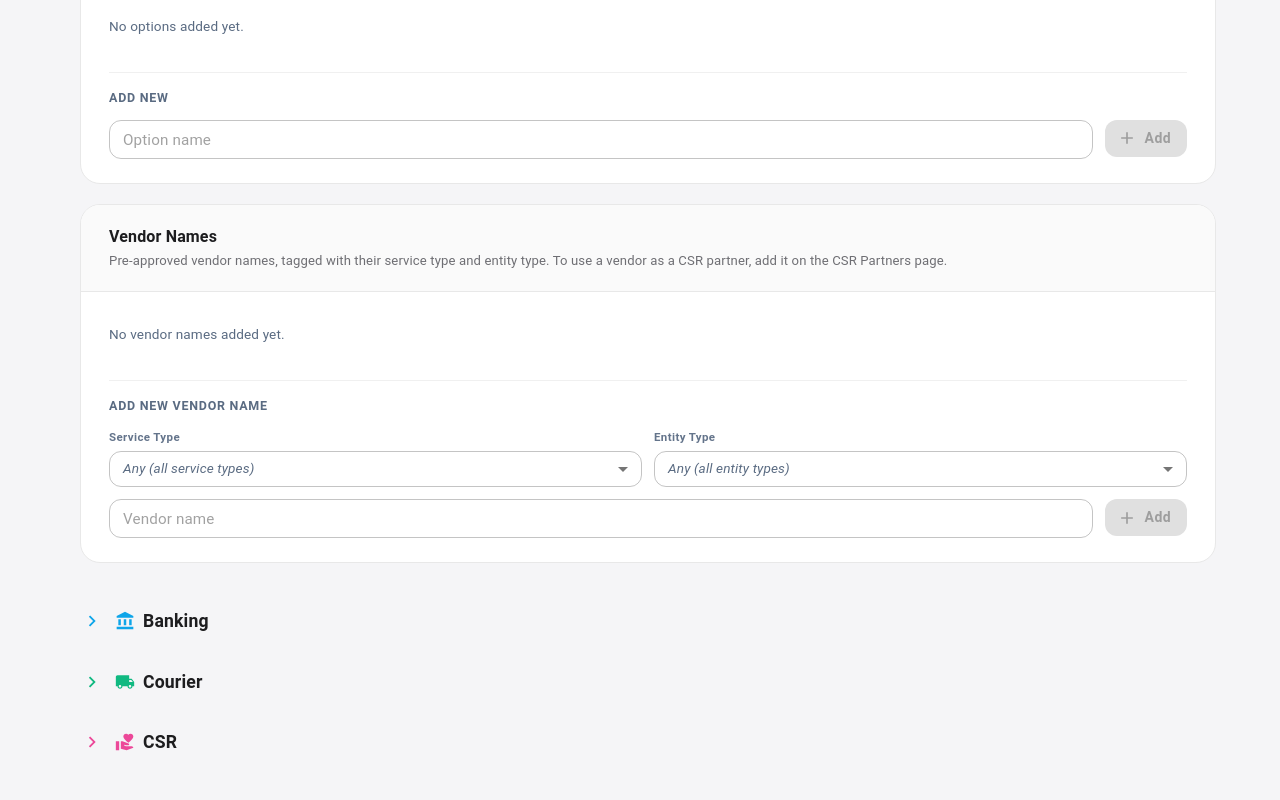
Scenario: the CSR section lists the contact people from the CSR API, with their details
The width and height of the screenshot is (1280, 800).
(page scrolled)
Click the text "CSR" at [160, 742], box [143,729,177,755]
(page scrolled)
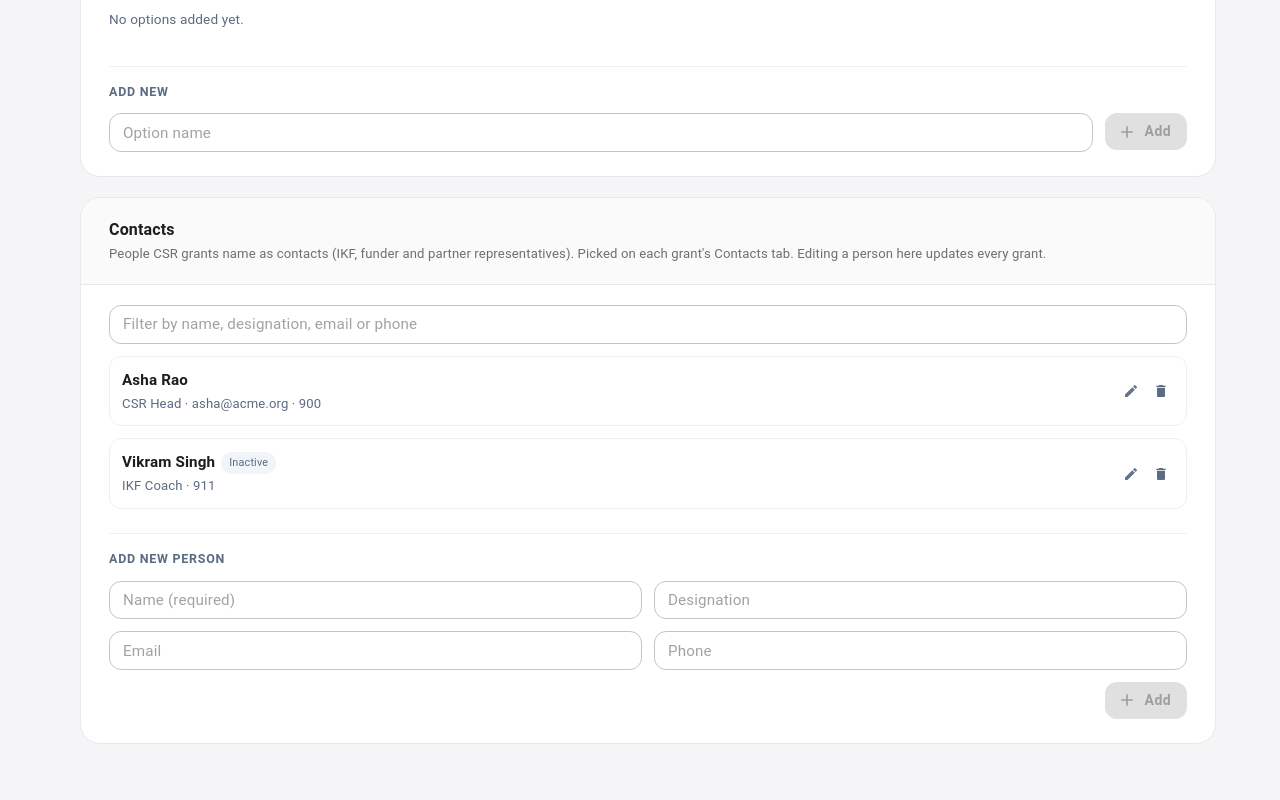
Check: the text "Asha Rao" is shown, box [122,369,188,392]
Check: the text "Contacts" is shown, box [109,220,175,239]
Check: the text "Editing a person here updates every grant." is shown, box [109,246,1046,261]
